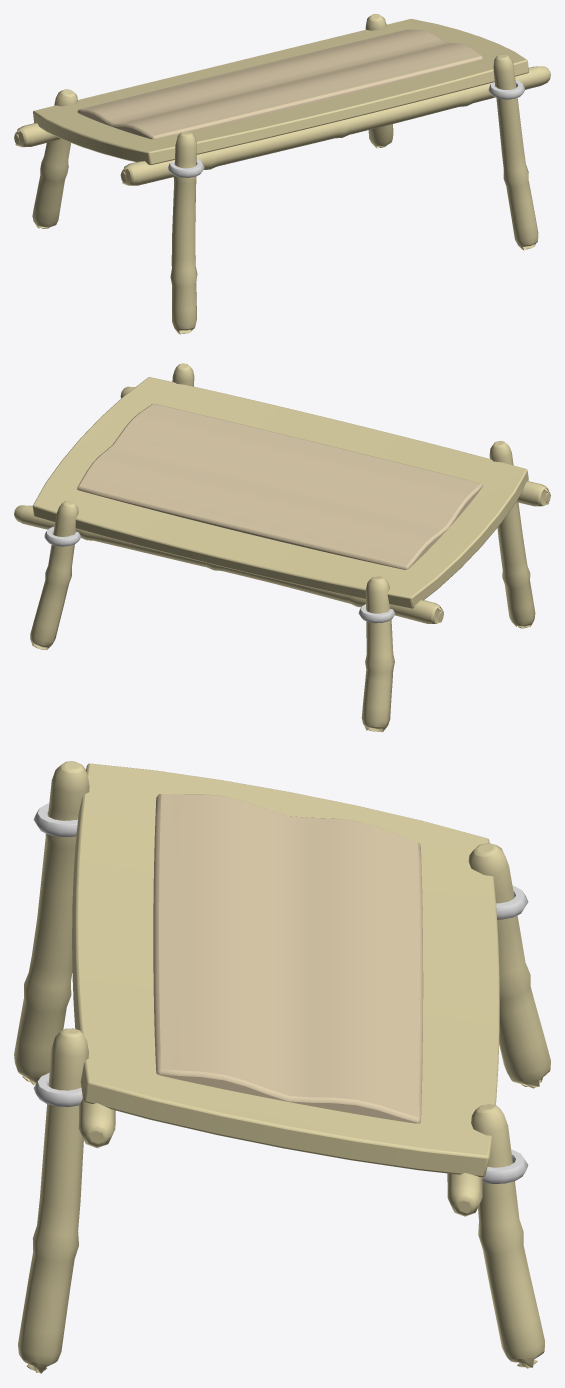
Rendered from pf_fish_rack_2.glb.
3 renders of one model, top to bottom at view 1: azimuth 30°, elevation 25°; view 2: azimuth 150°, elevation 25°; view 3: azimuth 270°, elevation 25°, orthographic. The views are drawn at different scales.
Visible parts, largest first — view 1: fish_rack_2_bamboo, fish_rack_2_pf_fishbed, fish_rack_2_pb_rope; view 2: fish_rack_2_bamboo, fish_rack_2_pf_fishbed, fish_rack_2_pb_rope; view 3: fish_rack_2_bamboo, fish_rack_2_pf_fishbed, fish_rack_2_pb_rope.
Part boxes in pixels (<box>): fish_rack_2_bamboo: <box>14,14,550,334</box>; fish_rack_2_pf_fishbed: <box>77,29,482,139</box>; fish_rack_2_pb_rope: <box>168,79,524,177</box>; fish_rack_2_bamboo: <box>14,363,550,732</box>; fish_rack_2_pf_fishbed: <box>77,403,482,569</box>; fish_rack_2_pb_rope: <box>44,526,395,623</box>; fish_rack_2_bamboo: <box>14,761,550,1373</box>; fish_rack_2_pf_fishbed: <box>153,794,423,1123</box>; fish_rack_2_pb_rope: <box>33,803,528,1183</box>.
Bounding box in the file's own units: 2.06 × 0.8777 × 1.3.
